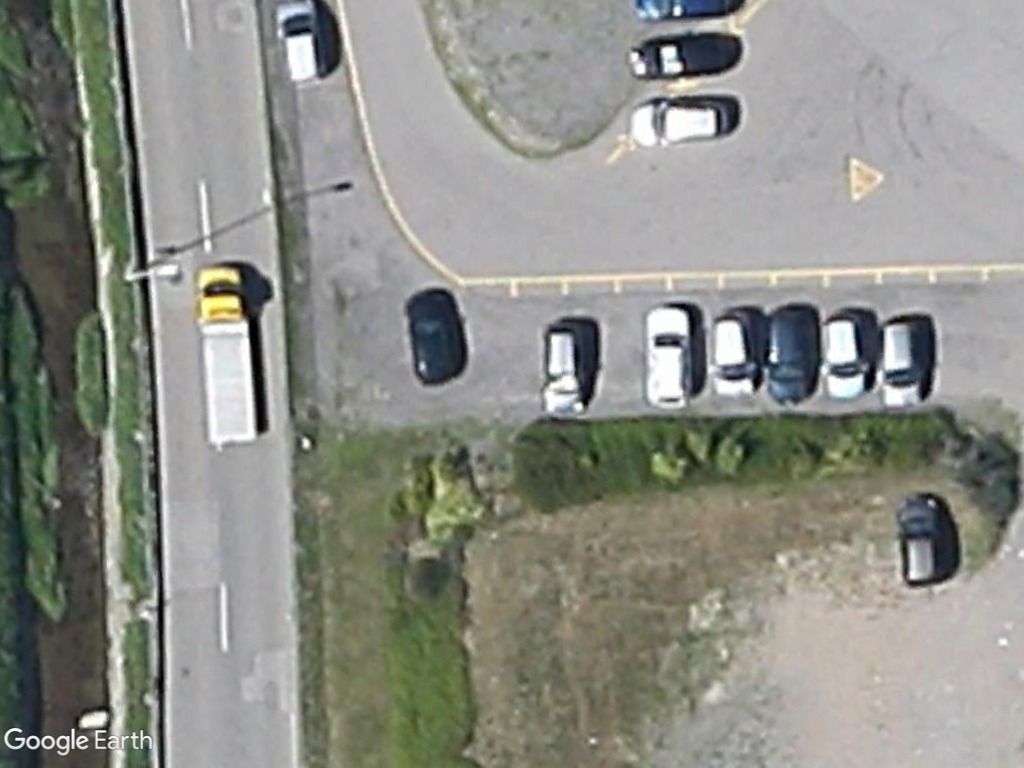car: (641, 298, 696, 414), (625, 95, 736, 152), (890, 492, 952, 592), (764, 299, 816, 411), (406, 289, 465, 386), (536, 321, 591, 423), (878, 307, 929, 417), (703, 308, 758, 401), (274, 2, 333, 88), (818, 304, 868, 405)
truck: (184, 260, 269, 453)
